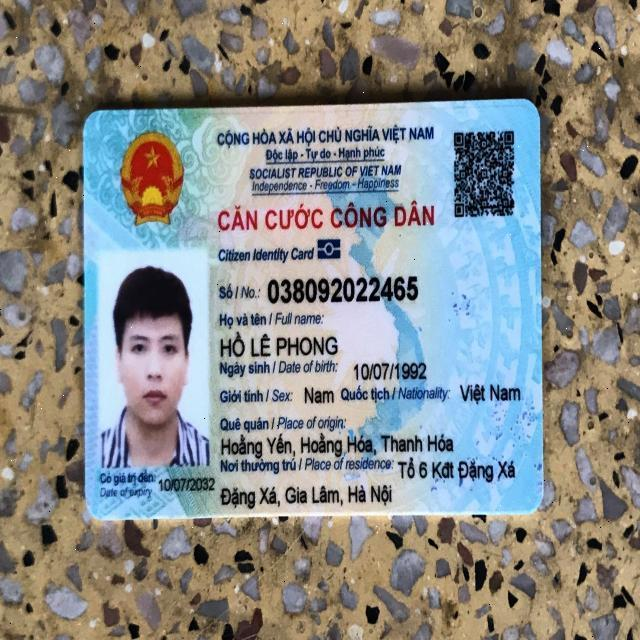current_place: (220, 483, 393, 509), (395, 456, 519, 482)
dob: (347, 349, 425, 384)
expire_date: (155, 473, 217, 494)
gender: (297, 385, 339, 409)
id: (265, 274, 421, 306)
name: (215, 327, 339, 361)
nationality: (459, 373, 523, 407)
origin_place: (218, 432, 454, 457)
